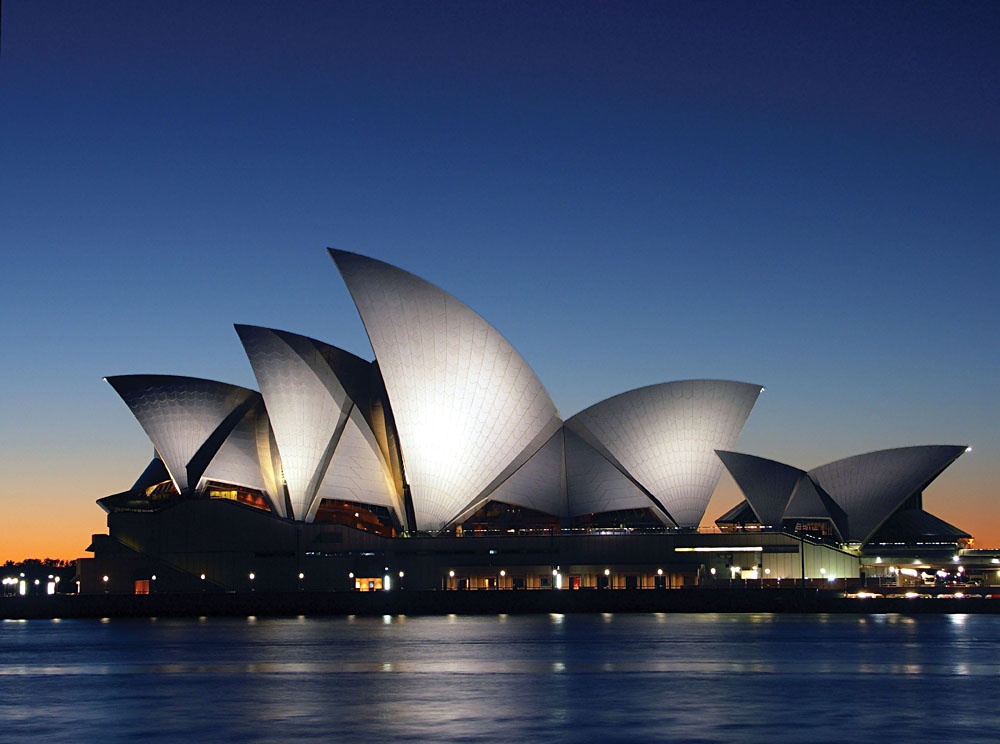opera house: (56, 190, 979, 603)
